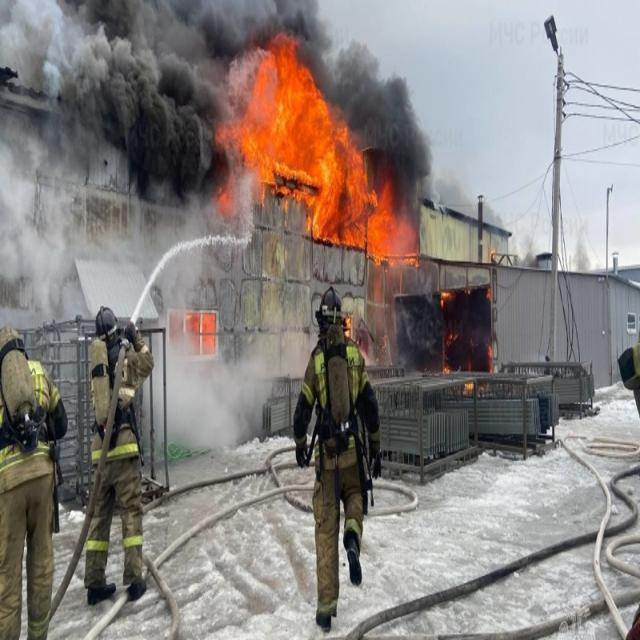Fire: (225, 38, 348, 245), (358, 172, 416, 262), (160, 311, 222, 364)
Smoke: (0, 0, 216, 285), (352, 40, 426, 170), (225, 0, 328, 28)
